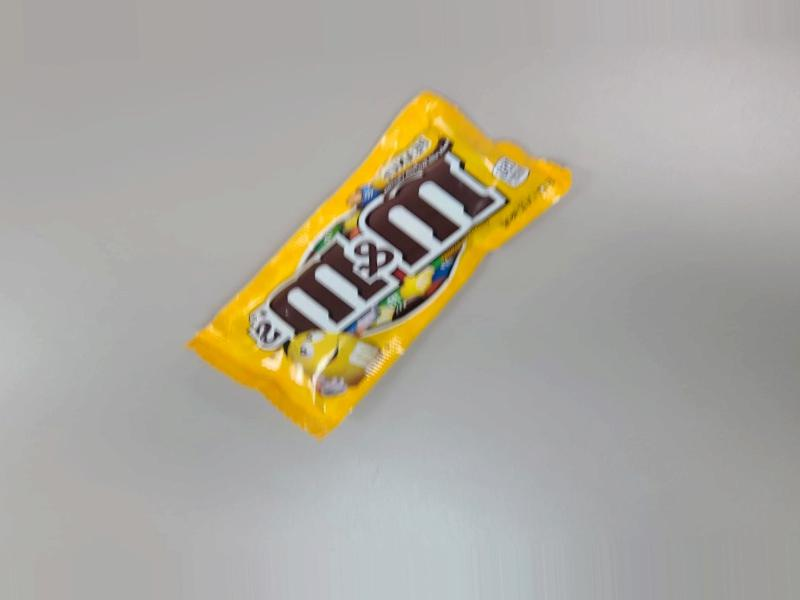m&m: (190, 70, 590, 478)
